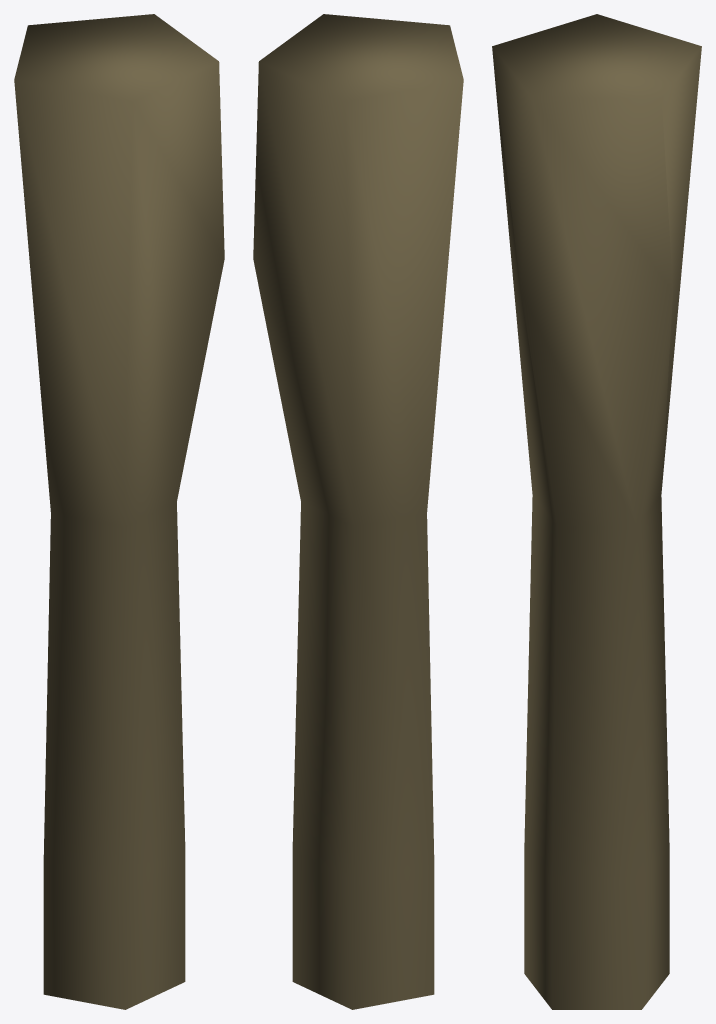
The model's file is animal_spelopede_leg.obj.
3 renders of one model, left to right at view 1: azimuth 30°, elevation 25°; view 2: azimuth 150°, elevation 25°; view 3: azimuth 270°, elevation 25°, orthographic.
Visible parts, largest first — view 1: animal_spelopede_leg; view 2: animal_spelopede_leg; view 3: animal_spelopede_leg.
Boxes of the visible parts, <box> form: animal_spelopede_leg: <box>14,14,224,1009</box>; animal_spelopede_leg: <box>253,14,463,1009</box>; animal_spelopede_leg: <box>492,14,701,1009</box>.
Size of the model in its own units: 0.0517 by 0.264 by 0.0544.
